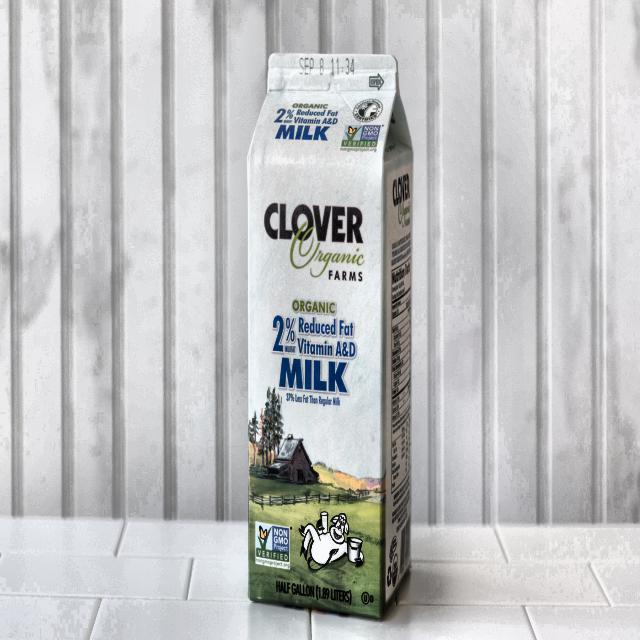cardboard: (246, 51, 413, 618)
